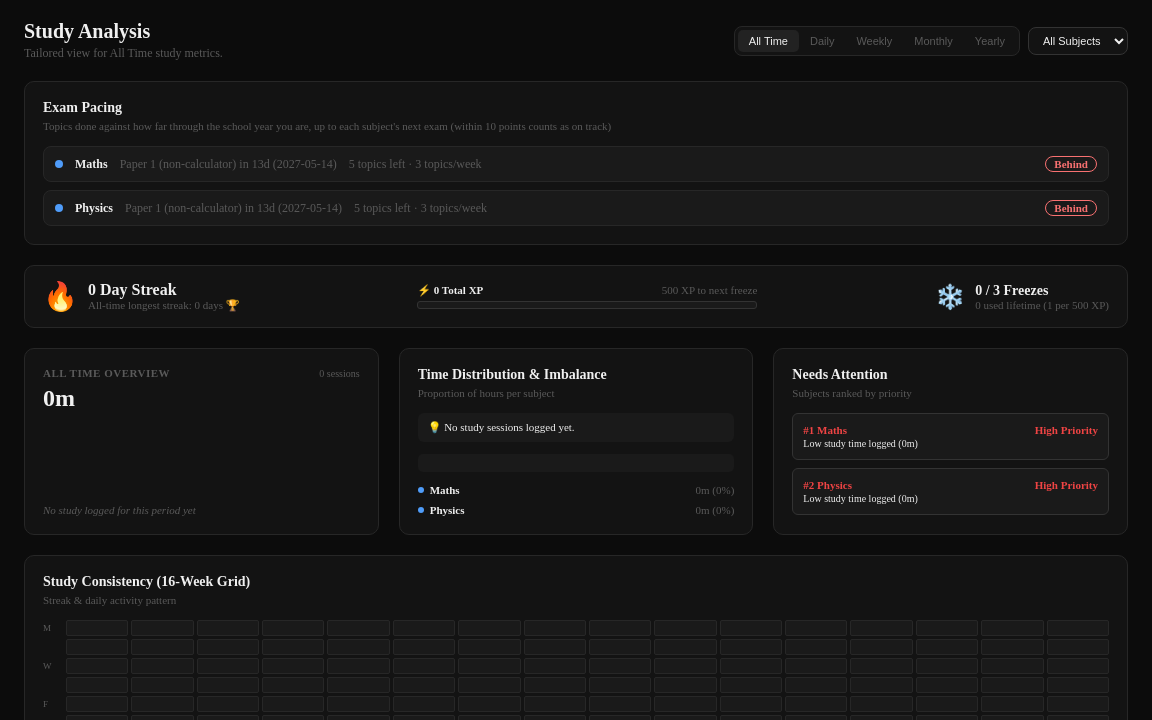
Test: exam pacing card › follows the Analysis subject filter
The width and height of the screenshot is (1152, 720).
Check: the list item with test id "pacing-phys" is shown, box top-left (43, 190), bottom-right (1109, 226)
Select "Maths" in the dropdown showing "All Subjects" at (1078, 40), box top-left (1028, 26), bottom-right (1128, 54)
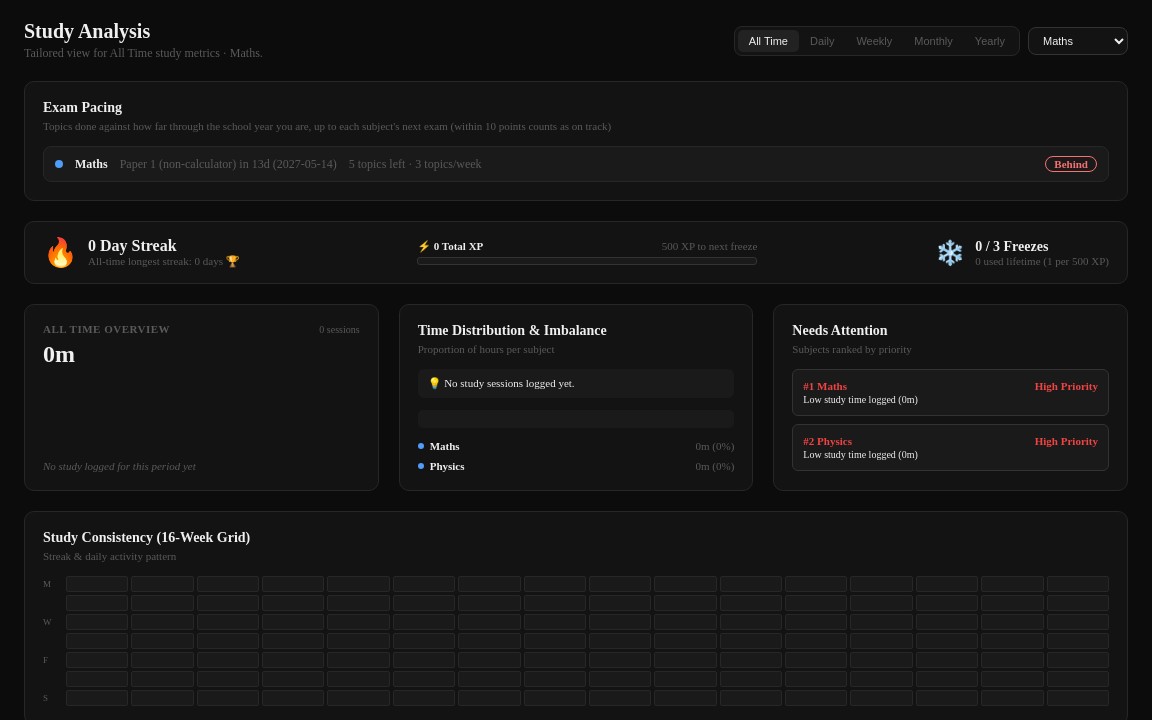
Check: the list item with test id "pacing-gcse-maths" is shown, box top-left (43, 146), bottom-right (1109, 182)
Check: the list item with test id "pacing-phys" is gone
